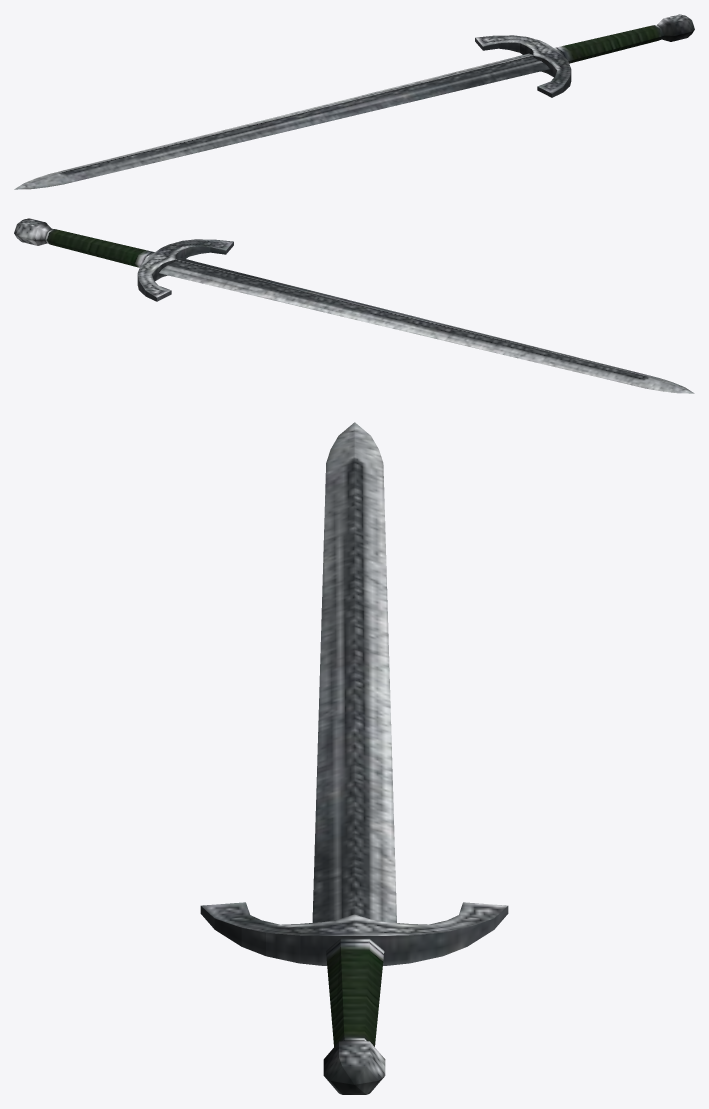
The model's file is ITMW_1H_SILVERSWORD_02.glb.
3 views of the same model, one above another, from view 1: azimuth 30°, elevation 25°; view 2: azimuth 150°, elevation 25°; view 3: azimuth 270°, elevation 25° (orthographic). The views are drawn at different scales.
Parts seen in each view (by area): view 1: ITMW_1H_SILVERSWORD_02; view 2: ITMW_1H_SILVERSWORD_02; view 3: ITMW_1H_SILVERSWORD_02.
Part boxes in pixels (x1,y1,x2,y2): ITMW_1H_SILVERSWORD_02: (14,14,694,189); ITMW_1H_SILVERSWORD_02: (14,218,694,393); ITMW_1H_SILVERSWORD_02: (200,422,508,1094).
Bounding box in the file's own units: 1.16 × 0.0293 × 0.2269.
1 material, 1 textured.
